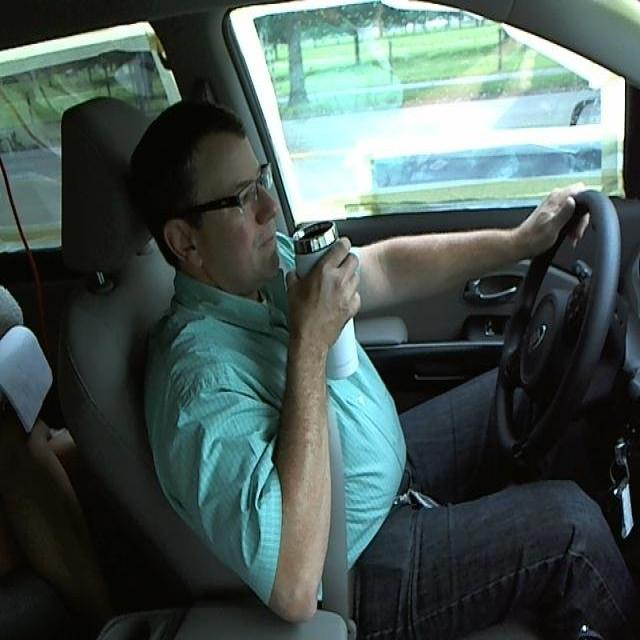drinking: (290, 214, 364, 383)
